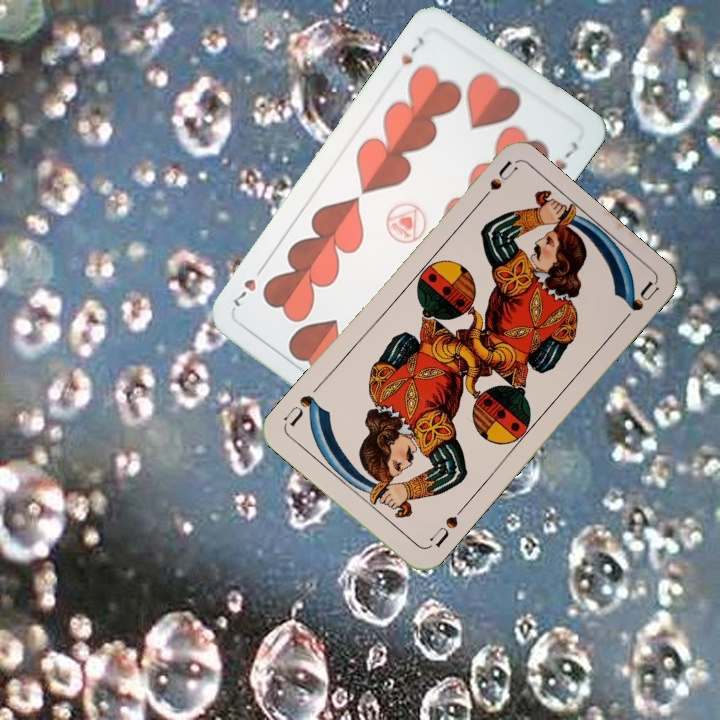H7: (396, 32, 428, 68)
SU: (472, 158, 520, 209), (425, 502, 467, 550)
